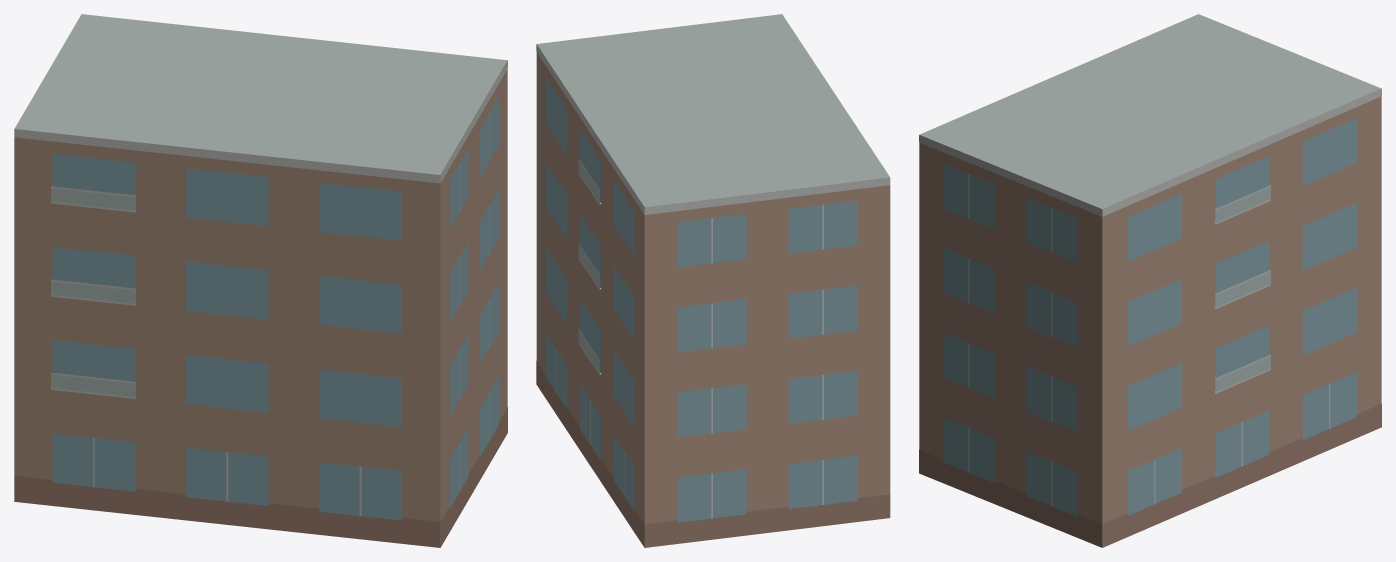
Rendered from survey-upis-32494770.glb.
3 views of the same model, side by side, from view 1: azimuth 30°, elevation 25°; view 2: azimuth 150°, elevation 25°; view 3: azimuth 270°, elevation 25° (orthographic). The views are drawn at different scales.
Visible parts, largest first — view 1: survey-upis-32494770.tmp; view 2: survey-upis-32494770.tmp; view 3: survey-upis-32494770.tmp.
Part boxes in pixels (bbox=[...]): survey-upis-32494770.tmp: bbox=[14, 14, 507, 547]; survey-upis-32494770.tmp: bbox=[536, 14, 890, 547]; survey-upis-32494770.tmp: bbox=[919, 14, 1381, 547].
Bounding box in the file's own units: 13.36 × 10.8 × 13.38.
